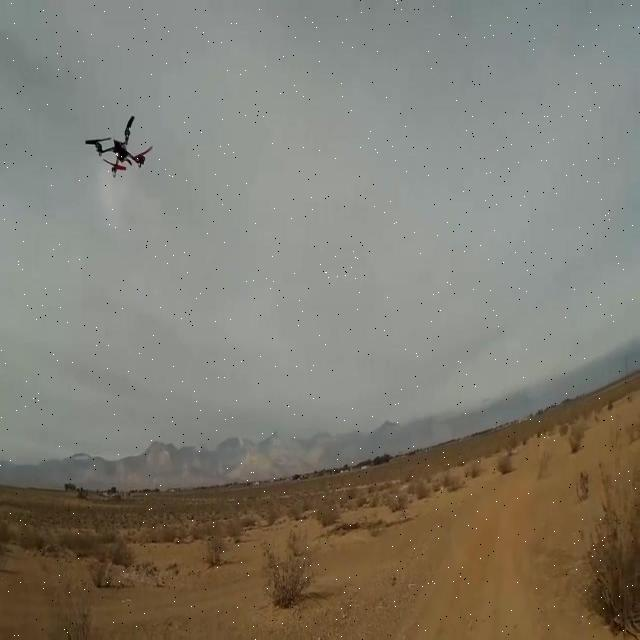UAV: (87, 115, 149, 177)
